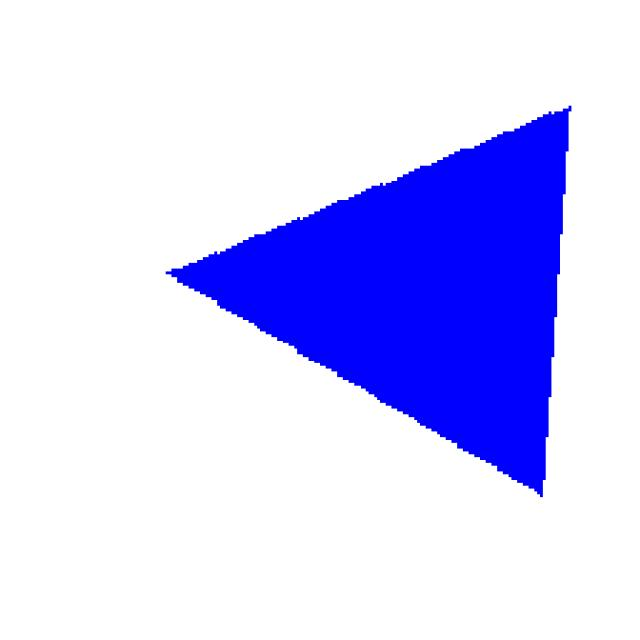Triangle: (136, 51, 607, 502)
